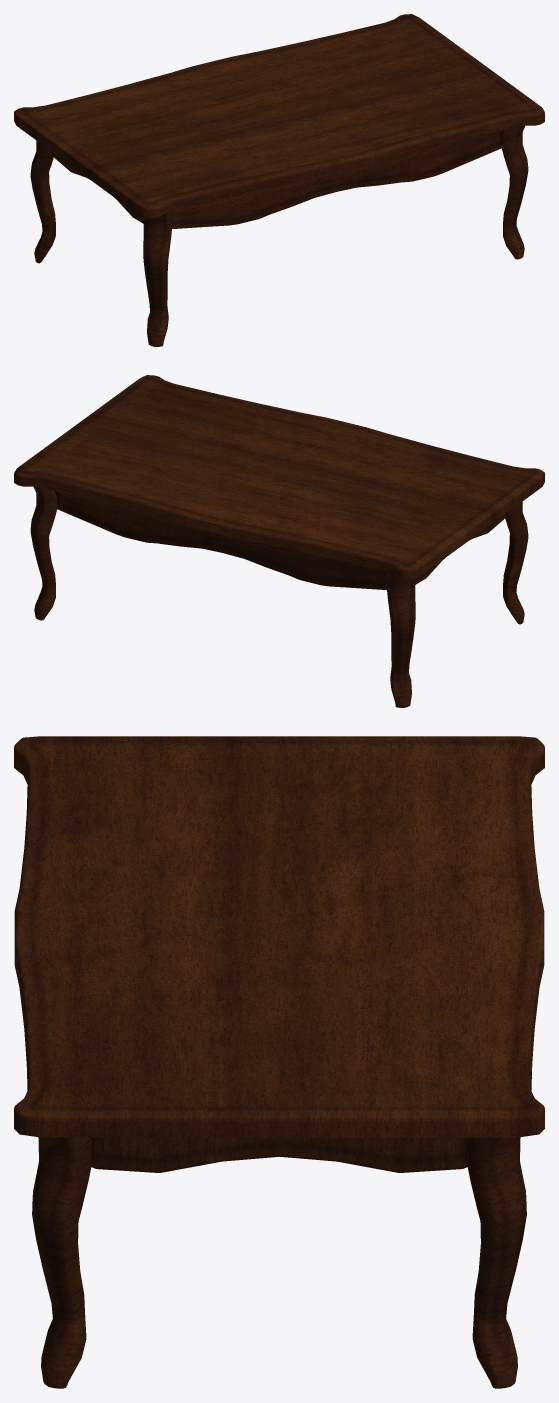
The model's file is TableRetro01.FBX.
The picture shows the model from 3 angles, top to bottom: view 1: azimuth 30°, elevation 25°; view 2: azimuth 150°, elevation 25°; view 3: azimuth 270°, elevation 25°; orthographic projection. The views are drawn at different scales.
Parts seen in each view (by area): view 1: TableRetro01; view 2: TableRetro01; view 3: TableRetro01.
Boxes of the visible parts, x1=… form: TableRetro01: x1=14, y1=14, x2=544, y2=346; TableRetro01: x1=14, y1=375, x2=544, y2=707; TableRetro01: x1=14, y1=736, x2=544, y2=1388.
Bounding box in the file's own units: 1436 × 502 × 843.
